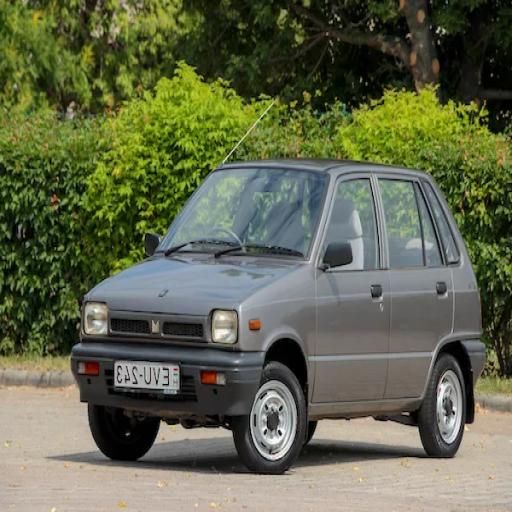License: (110, 361, 180, 399)
